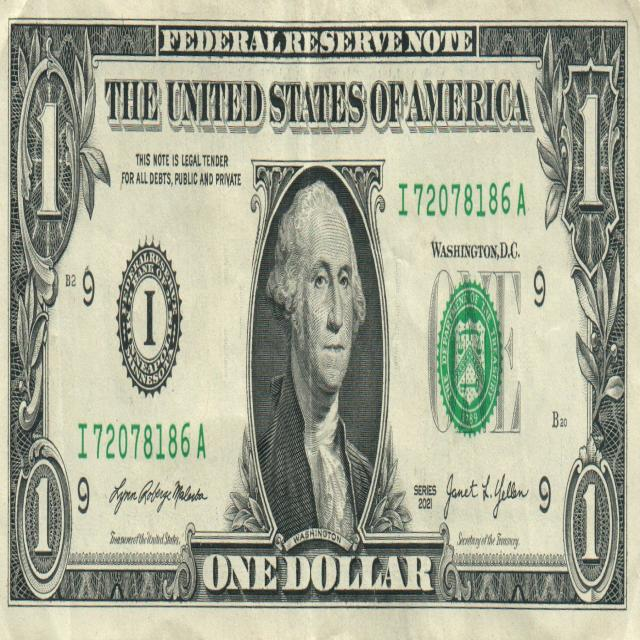SerialNumber: (79, 422, 205, 459), (413, 182, 525, 217)
